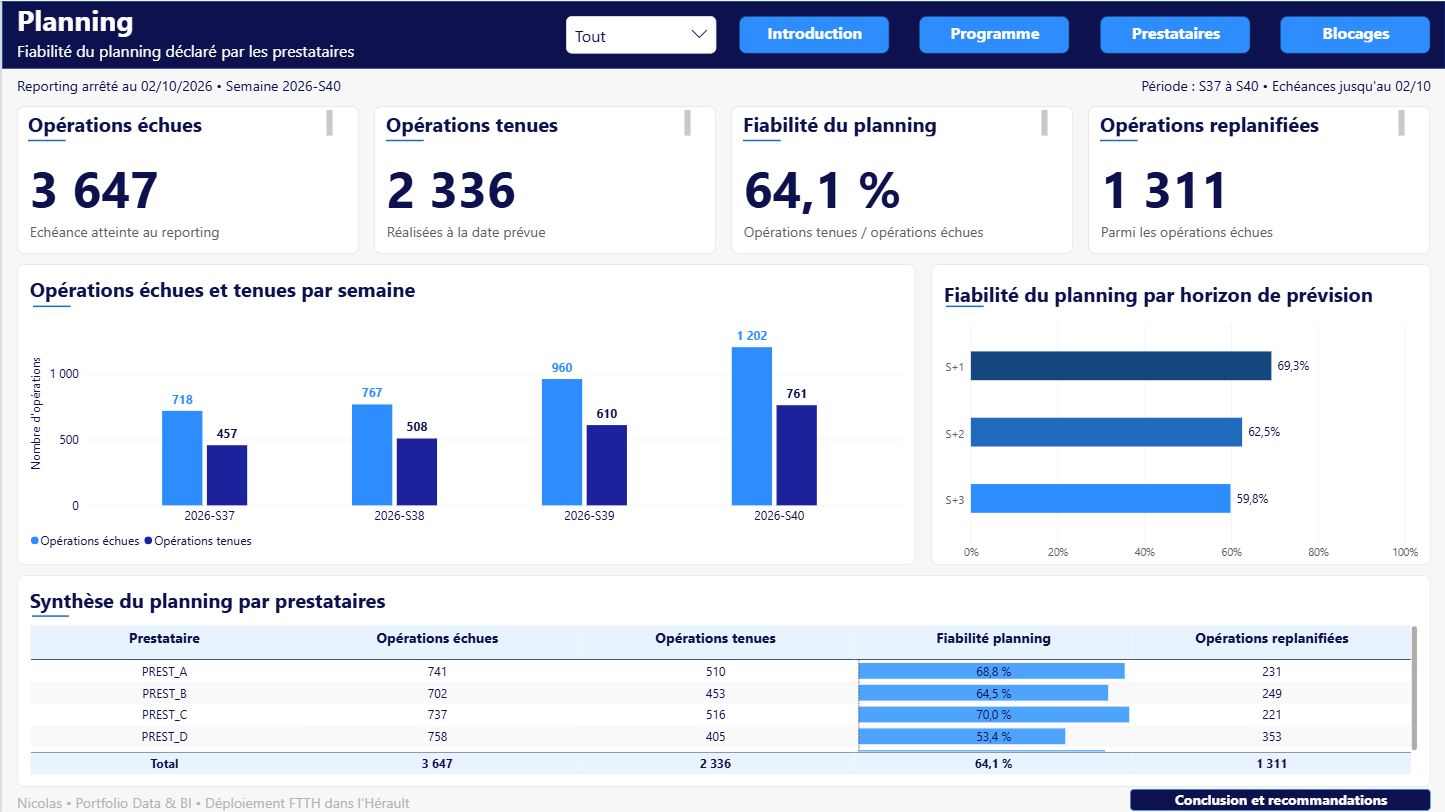

The dashboard page shown, as its layout file describes it:
{"tool":"powerbi","page":{"name":"Planning","canvas":[1920,1080],"ordinal":3},"visuals":[{"type":"shape","box":[0,0,1920.1,90.5],"z":0},{"type":"textbox","title":"Planning","box":[20,0,1880,90],"z":1000},{"type":"textbox","title":"Introduction","box":[980,20,200,50],"z":2000},{"type":"textbox","title":"Programme","box":[1220,20,200,50],"z":3000},{"type":"textbox","title":"Prestataires","box":[1460,20,200,50],"z":4000},{"type":"textbox","title":"Blocages","box":[1700,19.9,200,50],"z":5000},{"type":"slicer","title":"Pestataires","fields":{"Values":["dim_prestataire.prestataire_id"]},"box":[750,20,200,50],"z":6000},{"type":"textbox","box":[20,100,500,30],"z":7000},{"type":"cardVisual","title":"EL prévus","fields":{"Data":["Mesures.Opérations échues"]},"box":[20,140,455,197.3],"z":8000},{"type":"cardVisual","title":"EL prévus","fields":{"Data":["Mesures.Opérations tenues"]},"box":[495,140,455,197.3],"z":9000},{"type":"cardVisual","title":"EL prévus","fields":{"Data":["Mesures.Fiabilité planning"]},"box":[970,140,455,197.3],"z":10000},{"type":"cardVisual","title":"EL prévus","fields":{"Data":["Mesures.Opérations replanifiées"]},"box":[1445,140,455,197.3],"z":11000},{"type":"textbox","box":[35,145,405,35],"z":12000},{"type":"textbox","box":[1460,145,405,35],"z":13000},{"type":"textbox","box":[510.4,145,405,35],"z":14000},{"type":"textbox","box":[985,145,405,35],"z":15000},{"type":"shape","box":[35,180,50,12],"z":16000},{"type":"shape","box":[510.4,180,50,12],"z":17000},{"type":"shape","box":[985,180,50,12],"z":18000},{"type":"shape","box":[1460,180,50,12],"z":19000},{"type":"clusteredColumnChart","title":"Opérations échues et tenues par semaine","fields":{"Category":["v_operations.semaine_courante"],"Y":["Mesures.Opérations échues","Mesures.Opérations tenues"]},"box":[20,350,1195,400],"z":20000},{"type":"clusteredBarChart","title":"Fiabilité du planning par horizon de prévision","fields":{"Category":["v_operations.Horizon planning"],"Y":["Mesures.Fiabilité planning"]},"box":[1236,350,665,400],"z":21000},{"type":"tableEx","title":"Synthèse du planning par prestataires","fields":{"Values":["dim_prestataire.prestataire_id","Mesures.Opérations échues","Mesures.Opérations tenues","Mesures.Fiabilité planning","Mesures.Opérations replanifiées"]},"box":[20,763,1880,282],"z":22000},{"type":"shape","box":[1256,400,50.3,11.6],"z":23000},{"type":"shape","box":[40.6,400,50.3,11.6],"z":24000},{"type":"shape","box":[40,813,48.9,10.9],"z":25000},{"type":"textbox","title":"Nicolas • Portfolio Data & BI • Déploiement FTTH dans l''Hérault","box":[20,1053,850,23],"z":26000},{"type":"textbox","box":[1400,100,500,30],"z":27000},{"type":"actionButton","box":[980,20,200,50],"z":28000},{"type":"actionButton","box":[1220,20,200,50],"z":29000},{"type":"actionButton","box":[1460,20,200,50],"z":30000},{"type":"actionButton","box":[1700,20,200,50],"z":31000},{"type":"textbox","title":"Conclusion et recommandations","box":[1500,1048,400,29],"z":32000},{"type":"actionButton","box":[1500.2,1048,400,29],"z":33000}]}

Visuals, with their boxes in screenshot pixels (x1, y1, x2, y2), scaled from the page's 1920x1080 canvas onto the 1445x812 screenshot:
shape: l=0, t=0, r=1444, b=68
"Planning" textbox: l=15, t=0, r=1430, b=68
"Introduction" textbox: l=738, t=15, r=888, b=53
"Programme" textbox: l=918, t=15, r=1069, b=53
"Prestataires" textbox: l=1099, t=15, r=1249, b=53
"Blocages" textbox: l=1279, t=15, r=1430, b=53
"Pestataires" slicer: l=564, t=15, r=715, b=53
textbox: l=15, t=75, r=391, b=98
"EL prévus" cardVisual: l=15, t=105, r=357, b=254
"EL prévus" cardVisual: l=373, t=105, r=715, b=254
"EL prévus" cardVisual: l=730, t=105, r=1072, b=254
"EL prévus" cardVisual: l=1088, t=105, r=1430, b=254
textbox: l=26, t=109, r=331, b=135
textbox: l=1099, t=109, r=1404, b=135
textbox: l=384, t=109, r=689, b=135
textbox: l=741, t=109, r=1046, b=135
shape: l=26, t=135, r=64, b=144
shape: l=384, t=135, r=422, b=144
shape: l=741, t=135, r=779, b=144
shape: l=1099, t=135, r=1136, b=144
"Opérations échues et tenues par semaine" clusteredColumnChart: l=15, t=263, r=914, b=564
"Fiabilité du planning par horizon de prévision" clusteredBarChart: l=930, t=263, r=1431, b=564
"Synthèse du planning par prestataires" tableEx: l=15, t=574, r=1430, b=786
shape: l=945, t=301, r=983, b=309
shape: l=31, t=301, r=68, b=309
shape: l=30, t=611, r=67, b=619
"Nicolas • Portfolio Data & BI • Déploiement FTTH dans l''Hérault" textbox: l=15, t=792, r=655, b=809
textbox: l=1054, t=75, r=1430, b=98
actionButton: l=738, t=15, r=888, b=53
actionButton: l=918, t=15, r=1069, b=53
actionButton: l=1099, t=15, r=1249, b=53
actionButton: l=1279, t=15, r=1430, b=53
"Conclusion et recommandations" textbox: l=1129, t=788, r=1430, b=810
actionButton: l=1129, t=788, r=1430, b=810
